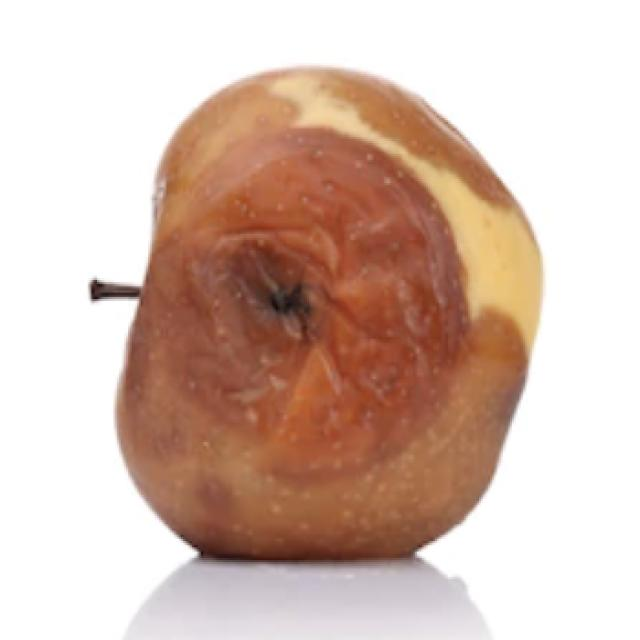Rotten: (110, 52, 550, 562)
